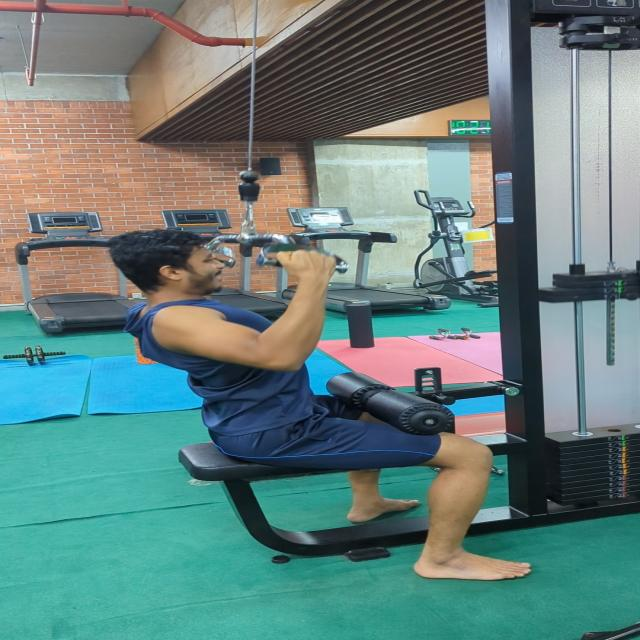Normal_LatPulldown: (86, 217, 566, 603)
